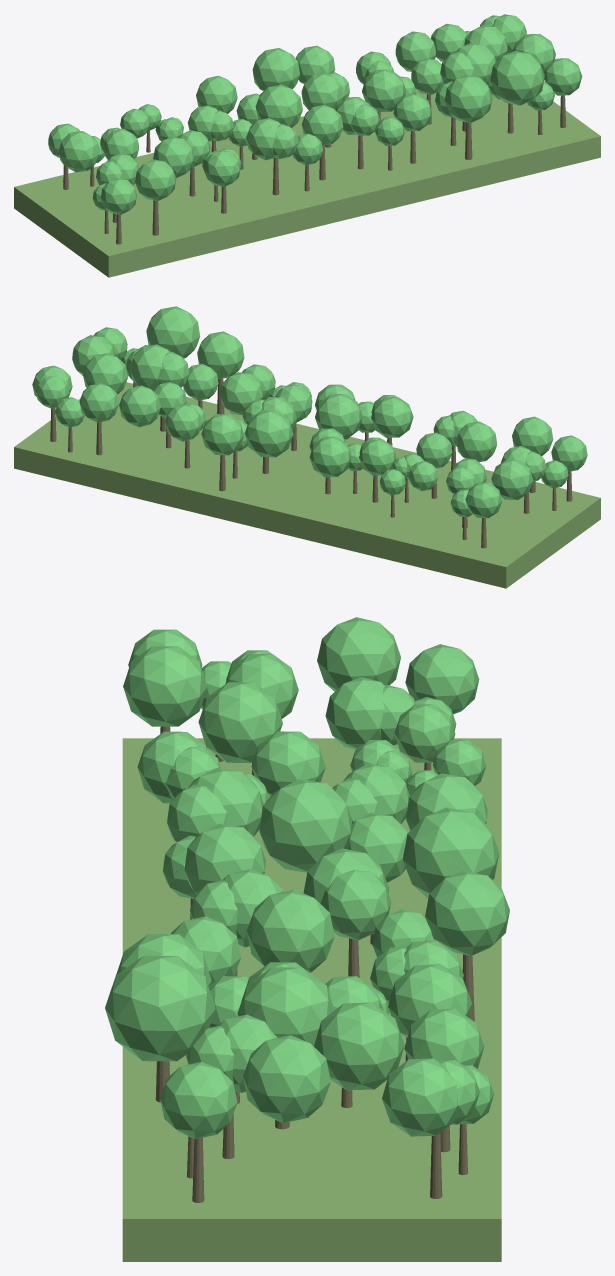
File: grass_offset_forest.fbx
3 views of the same model, one above another, from view 1: azimuth 30°, elevation 25°; view 2: azimuth 150°, elevation 25°; view 3: azimuth 270°, elevation 25° (orthographic). The views are drawn at different scales.
Parts seen in each view (by area): view 1: Cube.003; view 2: Cube.003; view 3: Cube.003.
Part boxes in pixels (x1=…): Cube.003: x1=14, y1=14, x2=600, y2=277; Cube.003: x1=14, y1=306, x2=600, y2=588; Cube.003: x1=105, y1=617, x2=509, y2=1261.
Size of the model in its own units: 4800 by 1078 by 1711.
